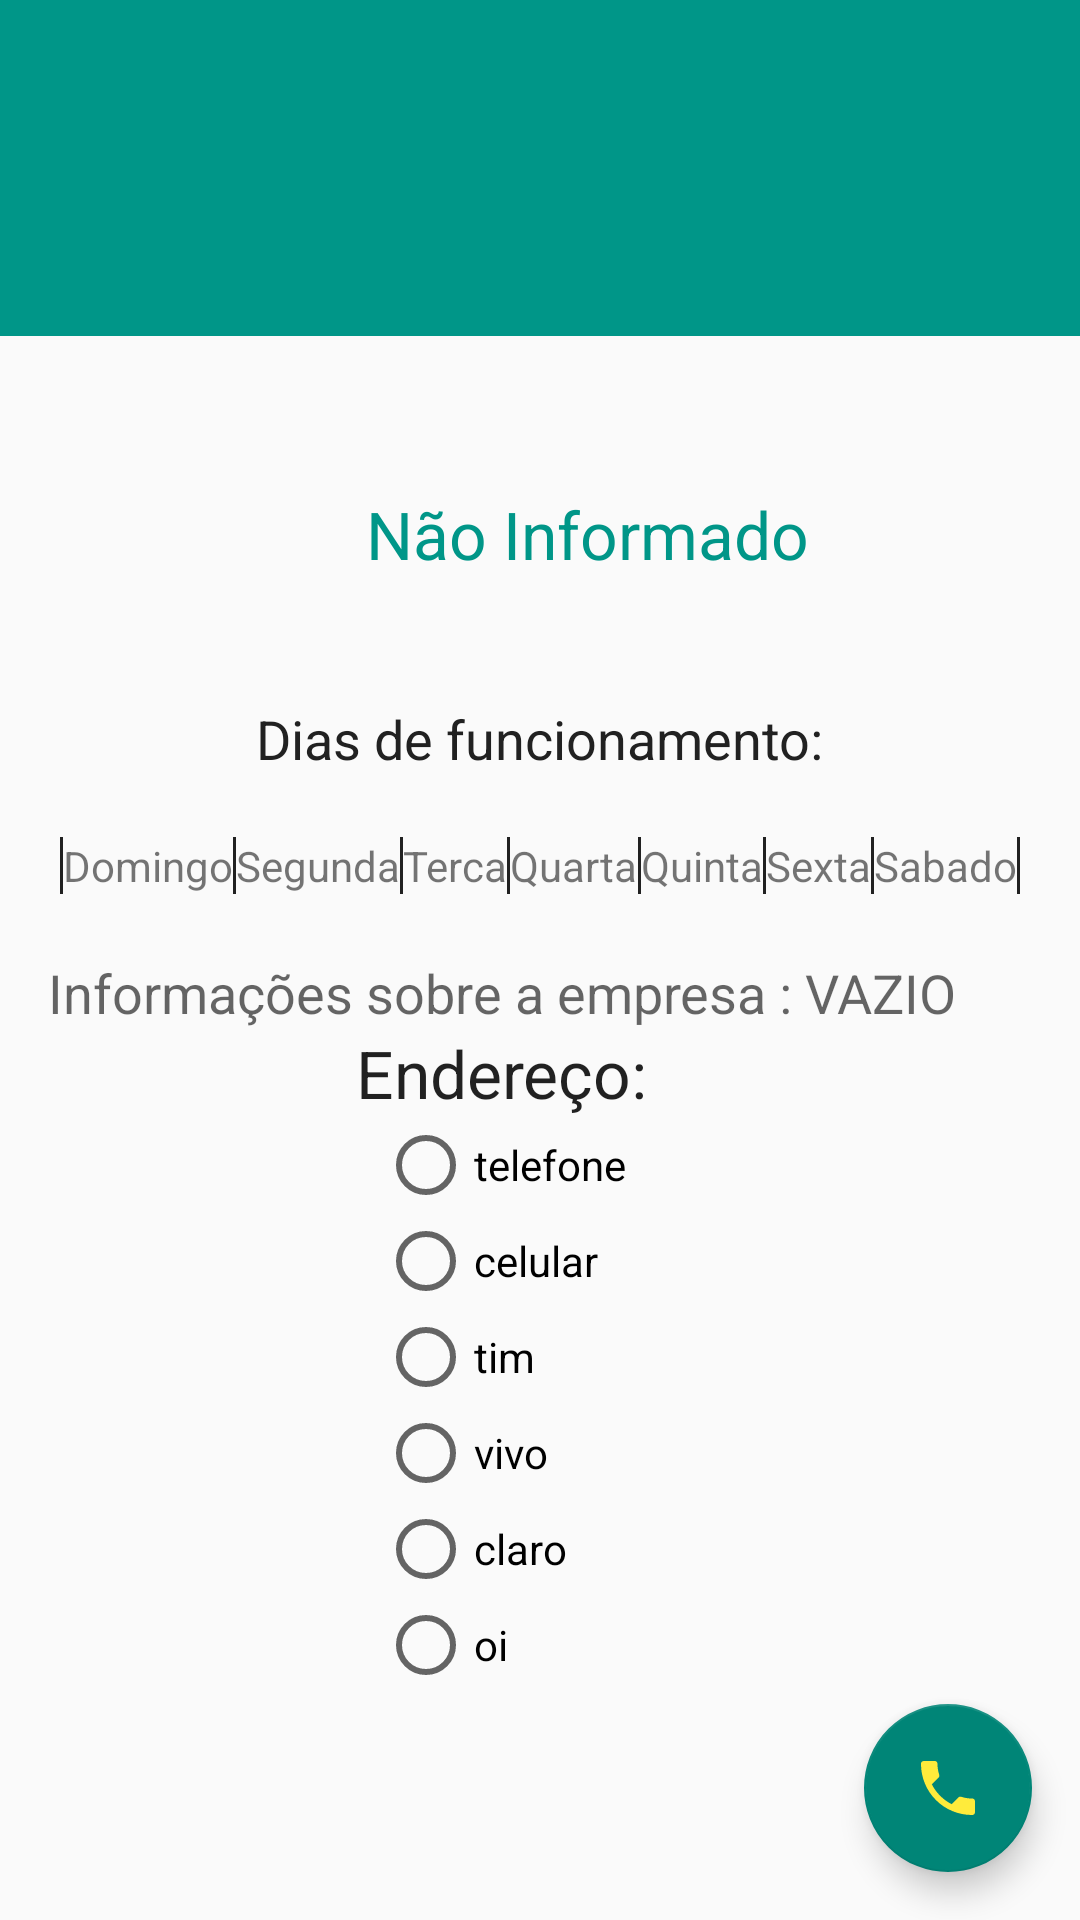

Point at icon controls on the screen. Image size 1080*1920, points as (x=x, y=y).
phone: (x=948, y=1788)
